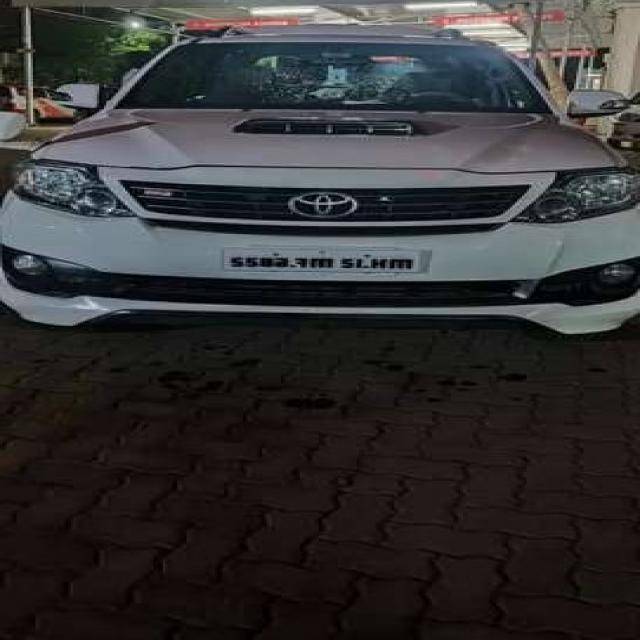license_plate: (218, 242, 436, 282)
